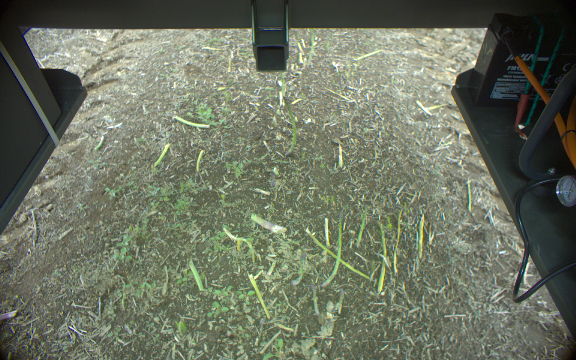aspa: (320, 208, 347, 285), (244, 272, 271, 321), (221, 227, 257, 261), (374, 218, 389, 298), (280, 96, 297, 158), (250, 212, 287, 235), (168, 112, 210, 131), (392, 207, 403, 276), (288, 252, 308, 289), (184, 259, 204, 292), (305, 283, 321, 319), (414, 213, 426, 259), (152, 142, 172, 168), (190, 147, 209, 173), (355, 208, 367, 248), (305, 27, 316, 64), (278, 70, 285, 95)
